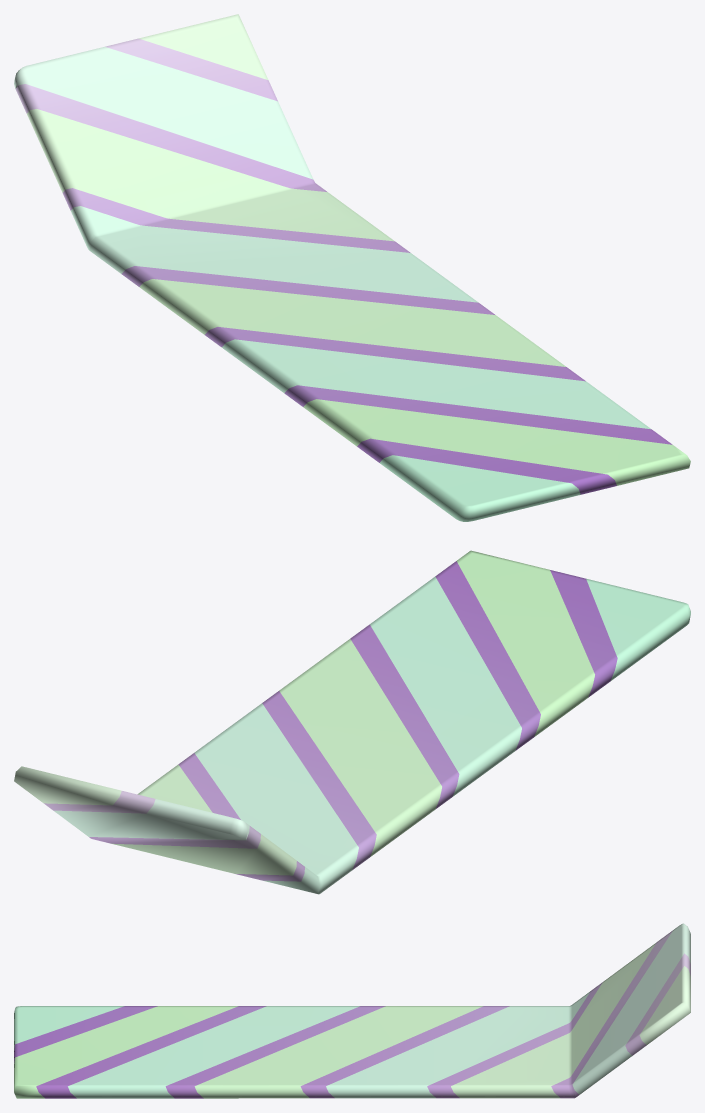
The model's file is SunLounger_MattressDiagonal_B.fbx.
The picture shows the model from 3 angles, top to bottom: view 1: azimuth 30°, elevation 25°; view 2: azimuth 150°, elevation 25°; view 3: azimuth 270°, elevation 25°; orthographic projection. The views are drawn at different scales.
Visible parts, largest first — view 1: SunLounger_MattressDiagonal_B; view 2: SunLounger_MattressDiagonal_B; view 3: SunLounger_MattressDiagonal_B.
Boxes of the visible parts, x1=… form: SunLounger_MattressDiagonal_B: x1=14, y1=14, x2=690, y2=521; SunLounger_MattressDiagonal_B: x1=14, y1=550, x2=690, y2=894; SunLounger_MattressDiagonal_B: x1=14, y1=923, x2=690, y2=1098.
Size of the model in its own units: 45.43 by 24.42 by 157.
